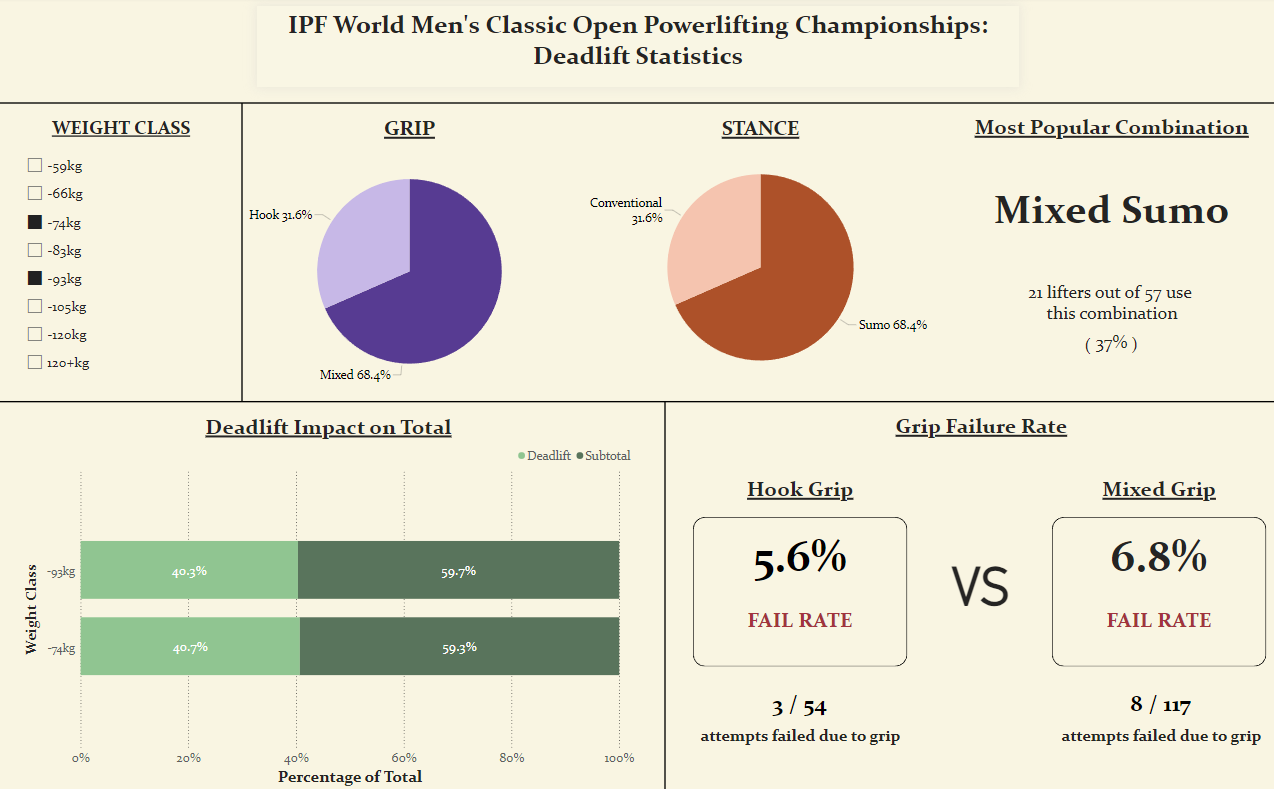

What the dashboard file says about the page in this screenshot:
{"tool":"powerbi","page":{"name":"Page 1","canvas":[1920,1200],"ordinal":0},"visuals":[{"type":"pieChart","title":"GRIP","fields":{"Y":["CountNonNull(Hook or Mixed - Mens.GRIP)"],"Category":["Hook or Mixed - Mens.GRIP"]},"box":[368.7,177.6,500,426.9],"z":0},{"type":"pieChart","title":"STANCE","fields":{"Category":["Hook or Mixed - Mens.STANCE"],"Y":["CountNonNull(Hook or Mixed - Mens.STANCE)"]},"box":[868.7,177.6,547.8,414.9],"z":1000},{"type":"hundredPercentStackedBarChart","title":"Deadlift Impact on Total","fields":{"Y":["Hook or Mixed - Mens.AverageDeadliftKG","Hook or Mixed - Mens.AverageNonDeadliftKG"],"Category":["SortingWeightClasses.WeightClass"]},"box":[35.8,622.4,923.9,559.7],"z":2000},{"type":"shape","box":[0,593,1919.6,22.8],"z":3000},{"type":"slicer","title":"WEIGHT CLASS","fields":{"Values":["SortingWeightClasses.WeightClass"]},"box":[35.8,177.6,304.5,400],"z":4000},{"type":"textbox","box":[391,13.4,1137.3,120.9],"z":5000},{"type":"shape","box":[340.3,157.8,56.7,446.3],"z":6000},{"type":"shape","box":[0,145.9,1919.4,23.9],"z":7000},{"type":"shape","box":[971.6,604.5,56.7,595.5],"z":8000},{"type":"textbox","box":[1447.9,170,438,59.7],"z":9000},{"type":"card","fields":{"Values":["GripStanceByWeight.Most Popular GripStance"]},"box":[1449.4,225.4,434.3,176.1],"z":10000},{"type":"card","fields":{"Values":["GripStanceByWeight.Fraction Using Popular Combination"]},"box":[1514.9,402,304.5,103],"z":11000},{"type":"card","fields":{"Values":["GripStanceByWeight.Percentage Using Popular Combination"]},"box":[1632.9,491.8,67.2,44.8],"z":12000},{"type":"textbox","box":[1620.9,498.3,22.4,47.8],"z":13000},{"type":"textbox","box":[1691.1,496.3,22.4,47.8],"z":14000},{"type":"textbox","box":[1331.2,615.7,281.7,60.1],"z":15000},{"type":"card","fields":{"Values":["FailedAttempts.Percentage Failed Hook Attempts"]},"box":[1098.6,767.7,205.8,120.3],"z":16000},{"type":"card","fields":{"Values":["FailedAttempts.Percentage Failed Mixed Attempts"]},"box":[1635,767.7,205.8,120.3],"z":17000},{"type":"textbox","box":[1626.9,710.4,221.6,69.6],"z":18000},{"type":"textbox","box":[1090.5,710.4,221.6,82.3],"z":19000},{"type":"textbox","box":[1090.7,905.4,221.6,55.4],"z":20000},{"type":"textbox","box":[1627.1,905.4,221.6,55.4],"z":21000},{"type":"card","fields":{"Values":["FailedAttempts.Fraction Failed Hook Attempts"]},"box":[1129.9,1010.4,141.8,83.6],"z":22000},{"type":"card","fields":{"Values":["FailedAttempts.Fraction Failed Mixed Attempts"]},"box":[1644.8,1010.4,189.6,83.6],"z":23000},{"type":"textbox","box":[1032.1,1082.4,338.7,55.4],"z":24000},{"type":"textbox","box":[1571.7,1082.7,338.7,55.4],"z":25000},{"type":"shape","box":[1041.6,775.6,319.7,223.2],"z":26000},{"type":"shape","box":[1578,775.6,319.7,223.2],"z":27000},{"type":"textbox","box":[1394.5,827.8,153.5,112.4],"z":28000}]}

Visuals, with their boxes in screenshot pixels (x1, y1, x2, y2), scaled from the page's 1920x1200 canvas onto the 1274x789 screenshot:
"GRIP" pieChart: bbox=(245, 117, 576, 397)
"STANCE" pieChart: bbox=(576, 117, 940, 390)
"Deadlift Impact on Total" hundredPercentStackedBarChart: bbox=(24, 409, 637, 777)
shape: bbox=(0, 390, 1273, 405)
"WEIGHT CLASS" slicer: bbox=(24, 117, 226, 380)
textbox: bbox=(259, 9, 1014, 88)
shape: bbox=(226, 104, 263, 397)
shape: bbox=(0, 96, 1273, 112)
shape: bbox=(645, 397, 682, 788)
textbox: bbox=(961, 112, 1251, 151)
card - GripStanceByWeight.Most Popular GripStance: bbox=(962, 148, 1250, 264)
card - GripStanceByWeight.Fraction Using Popular Combination: bbox=(1005, 264, 1207, 332)
card - GripStanceByWeight.Percentage Using Popular Combination: bbox=(1083, 323, 1128, 353)
textbox: bbox=(1076, 328, 1090, 359)
textbox: bbox=(1122, 326, 1137, 358)
textbox: bbox=(883, 405, 1070, 444)
card - FailedAttempts.Percentage Failed Hook Attempts: bbox=(729, 505, 866, 584)
card - FailedAttempts.Percentage Failed Mixed Attempts: bbox=(1085, 505, 1221, 584)
textbox: bbox=(1080, 467, 1227, 513)
textbox: bbox=(724, 467, 871, 521)
textbox: bbox=(724, 595, 871, 632)
textbox: bbox=(1080, 595, 1227, 632)
card - FailedAttempts.Fraction Failed Hook Attempts: bbox=(750, 664, 844, 719)
card - FailedAttempts.Fraction Failed Mixed Attempts: bbox=(1091, 664, 1217, 719)
textbox: bbox=(685, 712, 910, 748)
textbox: bbox=(1043, 712, 1268, 748)
shape: bbox=(691, 510, 903, 657)
shape: bbox=(1047, 510, 1259, 657)
textbox: bbox=(925, 544, 1027, 618)
